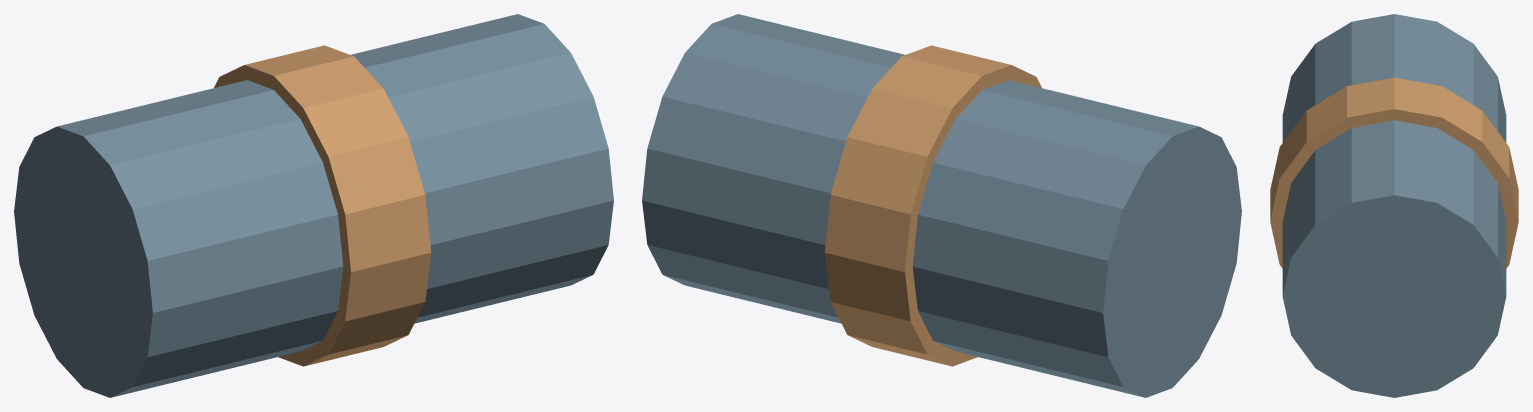
File: 07_L69_LiquidLineFilterDrier.glb
The picture shows the model from 3 angles, left to right: view 1: azimuth 30°, elevation 25°; view 2: azimuth 150°, elevation 25°; view 3: azimuth 270°, elevation 25°; orthographic projection. The views are drawn at different scales.
Visible parts, largest first — view 1: LiquidLineFilterDrier_Part_000, LiquidLineFilterDrier_Part_001; view 2: LiquidLineFilterDrier_Part_000, LiquidLineFilterDrier_Part_001; view 3: LiquidLineFilterDrier_Part_000, LiquidLineFilterDrier_Part_001.
Part boxes in pixels (<box>): LiquidLineFilterDrier_Part_000: <box>14,14,613,397</box>; LiquidLineFilterDrier_Part_001: <box>214,45,431,366</box>; LiquidLineFilterDrier_Part_000: <box>642,14,1241,397</box>; LiquidLineFilterDrier_Part_001: <box>824,45,1041,366</box>; LiquidLineFilterDrier_Part_000: <box>1282,14,1506,397</box>; LiquidLineFilterDrier_Part_001: <box>1270,77,1518,268</box>.
Bounding box in the file's own units: 0.69 × 0.4 × 0.4.
